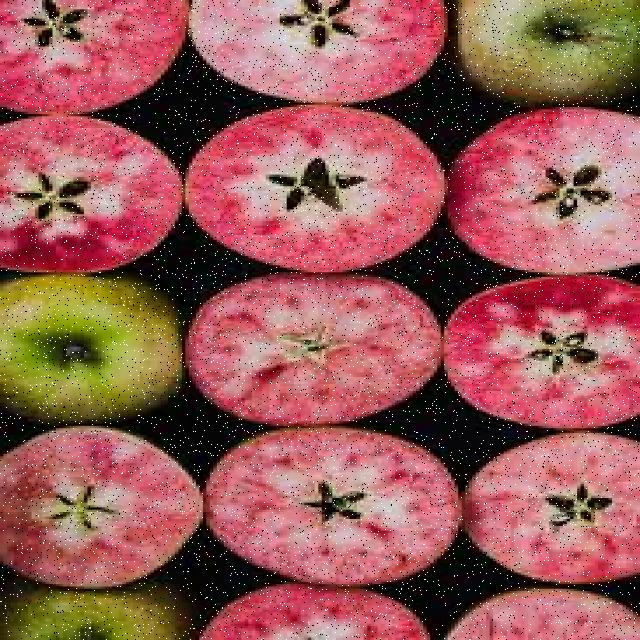Apple: (0, 273, 182, 418), (449, 0, 640, 99), (7, 589, 198, 636)
